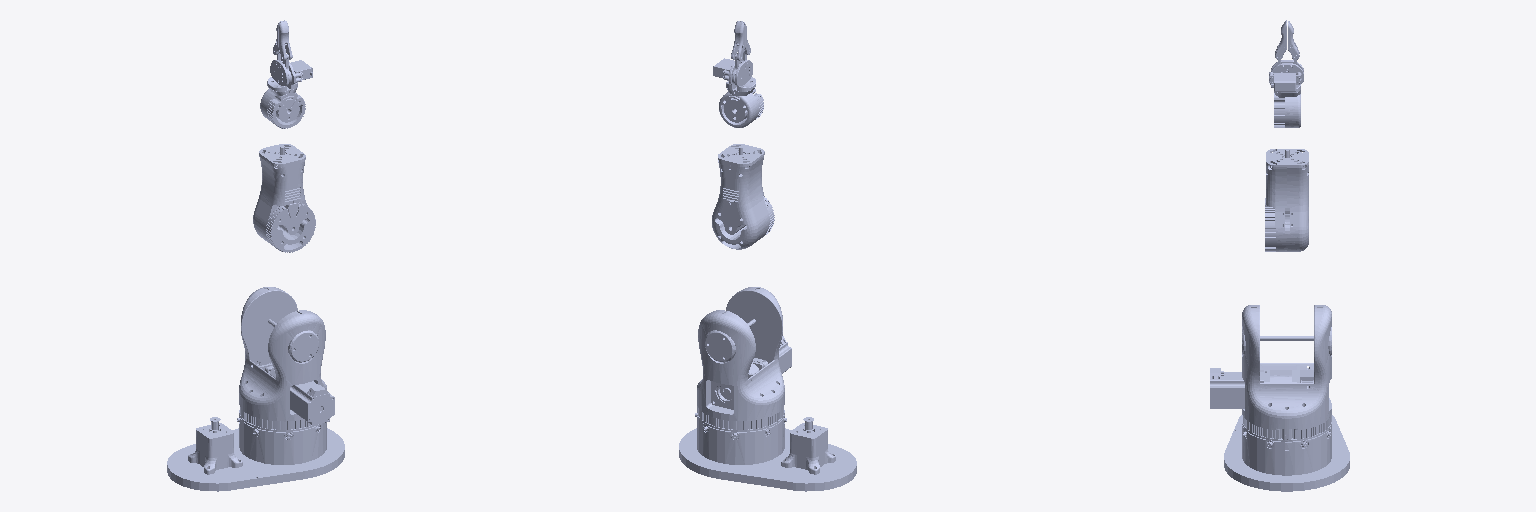
The robot description file, URDF, robot "urdf_v16":
<?xml version="1.0" encoding="utf-8"?>
<!-- This URDF was automatically created by SolidWorks to URDF Exporter! Originally created by [author] ([email redacted]) 
     Commit Version: 1.6.0-4-g7f85cfe  Build Version: 1.6.7995.38578
     For more information, please see http://wiki.ros.org/sw_urdf_exporter -->
<robot
  name="urdf_v16">
  <link
    name="base">
    <inertial>
      <origin
        xyz="-0.0389201994223138 0.0606404283501684 0.0288009133507181"
        rpy="0 0 0" />
      <mass
        value="1.80445503906733" />
      <inertia
        ixx="0.00557261131259849"
        ixy="1.30566151455957E-06"
        ixz="-0.000539475235711391"
        iyy="0.0133501948716485"
        iyz="4.50573070557487E-07"
        izz="0.0165394809218581" />
    </inertial>
    <visual>
      <origin
        xyz="0 0 0"
        rpy="0 0 0" />
      <geometry>
        <mesh
          filename="package://urdf_v16/meshes/base.STL" />
      </geometry>
      <material
        name="">
        <color
          rgba="0.792156862745098 0.819607843137255 0.933333333333333 1" />
      </material>
    </visual>
    <collision>
      <origin
        xyz="0 0 0"
        rpy="0 0 0" />
      <geometry>
        <mesh
          filename="package://urdf_v16/meshes/base.STL" />
      </geometry>
    </collision>
  </link>
  <link
    name="base_link ">
    <inertial>
      <origin
        xyz="-3.64068112765903E-05 -0.0118678758824738 0.0827015339279813"
        rpy="0 0 0" />
      <mass
        value="2.09089508032486" />
      <inertia
        ixx="0.013613386163526"
        ixy="4.81772898626971E-06"
        ixz="-8.58975907907224E-06"
        iyy="0.00966545436281291"
        iyz="-0.000408881288625665"
        izz="0.00889732682523512" />
    </inertial>
    <visual>
      <origin
        xyz="0 0 0"
        rpy="0 0 0" />
      <geometry>
        <mesh
          filename="package://urdf_v16/meshes/base_link .STL" />
      </geometry>
      <material
        name="">
        <color
          rgba="0.792156862745098 0.819607843137255 0.933333333333333 1" />
      </material>
    </visual>
    <collision>
      <origin
        xyz="0 0 0"
        rpy="0 0 0" />
      <geometry>
        <mesh
          filename="package://urdf_v16/meshes/base_link .STL" />
      </geometry>
    </collision>
    <ignore_collision link="base"/>
  </link>
  <joint
    name="joint_1"
    type="continuous">
    <origin
      xyz="0.0046192 0.060628 0.080563"
      rpy="0 0 0" />
    <parent
      link="base" />
    <child
      link="base_link " />
    <axis
      xyz="0 0 1" />
  </joint>
  <link
    name="shoulder">
    <inertial>
      <origin
        xyz="0.000114735555256318 0.0016461882487272 0.0799416450271098"
        rpy="0 0 0" />
      <mass
        value="1.93113222457088" />
      <inertia
        ixx="0.01708627154071"
        ixy="3.41459798496628E-06"
        ixz="-5.32606176023139E-07"
        iyy="0.0162697586704728"
        iyz="-0.000123095839040227"
        izz="0.0035998842492619" />
    </inertial>
    <visual>
      <origin
        xyz="0 0 0"
        rpy="0 0 0" />
      <geometry>
        <mesh
          filename="package://urdf_v16/meshes/shoulder.STL" />
      </geometry>
      <material
        name="">
        <color
          rgba="0.792156862745098 0.819607843137255 0.933333333333333 1" />
      </material>
    </visual>
    <collision>
      <origin
        xyz="0 0 0"
        rpy="0 0 0" />
      <geometry>
        <mesh
          filename="package://urdf_v16/meshes/shoulder.STL" />
      </geometry>
    </collision>
  </link>
  <joint
    name="joint_2"
    type="continuous">
    <origin
      xyz="0 0 0.16694"
      rpy="0 -0.0044397 0" />
    <parent
      link="base_link " />
    <child
      link="shoulder" />
    <axis
      xyz="0 1 0" />
  </joint>
  <link
    name="elbow">
    <inertial>
      <origin
        xyz="-7.45904489801719E-05 -0.000200828334464331 0.0430510825590724"
        rpy="0 0 0" />
      <mass
        value="0.777952609021586" />
      <inertia
        ixx="0.00228138056803775"
        ixy="6.75259481605935E-08"
        ixz="-6.02427649398722E-07"
        iyy="0.00230093031518272"
        iyz="-3.06257703779093E-05"
        izz="0.000730694022246996" />
    </inertial>
    <visual>
      <origin
        xyz="0 0 0"
        rpy="0 0 0" />
      <geometry>
        <mesh
          filename="package://urdf_v16/meshes/elbow.STL" />
      </geometry>
      <material
        name="">
        <color
          rgba="0.792156862745098 0.819607843137255 0.933333333333333 1" />
      </material>
    </visual>
    <collision>
      <origin
        xyz="0 0 0"
        rpy="0 0 0" />
      <geometry>
        <mesh
          filename="package://urdf_v16/meshes/elbow.STL" />
      </geometry>
    </collision>
  </link>
  <joint
    name="joint_3"
    type="continuous">
    <origin
      xyz="0 0 0.22112"
      rpy="0 0.0044397 0" />
    <parent
      link="shoulder" />
    <child
      link="elbow" />
    <axis
      xyz="0 1 0" />
  </joint>
  <link
    name="wrist_1">
    <inertial>
      <origin
        xyz="0.000153341839407795 0.00254377249979626 0.0552077416540102"
        rpy="0 0 0" />
      <mass
        value="0.336033452724269" />
      <inertia
        ixx="0.000698588486758794"
        ixy="-1.06886801069468E-06"
        ixz="4.79927277974197E-06"
        iyy="0.000573509249244311"
        iyz="1.12103478727962E-05"
        izz="0.000348806449824706" />
    </inertial>
    <visual>
      <origin
        xyz="0 0 0"
        rpy="0 0 0" />
      <geometry>
        <mesh
          filename="package://urdf_v16/meshes/wrist_1.STL" />
      </geometry>
      <material
        name="">
        <color
          rgba="0.792156862745098 0.819607843137255 0.933333333333333 1" />
      </material>
    </visual>
    <collision>
      <origin
        xyz="0 0 0"
        rpy="0 0 0" />
      <geometry>
        <mesh
          filename="package://urdf_v16/meshes/wrist_1.STL" />
      </geometry>
    </collision>
  </link>
  <joint
    name="joint_4"
    type="continuous">
    <origin
      xyz="0 0.000501 0.12994"
      rpy="0 0 0" />
    <parent
      link="elbow" />
    <child
      link="wrist_1" />
    <axis
      xyz="0 0 1" />
  </joint>
  <link
    name="wrist_2">
    <inertial>
      <origin
        xyz="1.77926530077199E-05 0.000385812865379087 0.00382819991882888"
        rpy="0 0 0" />
      <mass
        value="0.158624033379915" />
      <inertia
        ixx="8.93595815588662E-05"
        ixy="-2.61047265879977E-09"
        ixz="-6.69970075351791E-08"
        iyy="0.000106318553763207"
        iyz="-6.19881915619726E-07"
        izz="7.5097766833281E-05" />
    </inertial>
    <visual>
      <origin
        xyz="0 0 0"
        rpy="0 0 0" />
      <geometry>
        <mesh
          filename="package://urdf_v16/meshes/wrist_2.STL" />
      </geometry>
      <material
        name="">
        <color
          rgba="0.792156862745098 0.819607843137255 0.933333333333333 1" />
      </material>
    </visual>
    <collision>
      <origin
        xyz="0 0 0"
        rpy="0 0 0" />
      <geometry>
        <mesh
          filename="package://urdf_v16/meshes/wrist_2.STL" />
      </geometry>
    </collision>
  </link>
  <joint
    name="joint_5"
    type="continuous">
    <origin
      xyz="0 0 0.098961"
      rpy="0 0 0" />
    <parent
      link="wrist_1" />
    <child
      link="wrist_2" />
    <axis
      xyz="0 1 0" />
  </joint>
  <link
    name="gripper_base">
    <inertial>
      <origin
        xyz="0.0144248332652381 -0.00140943468206361 0.729409570686998"
        rpy="0 0 0" />
      <mass
        value="0.0669550622960312" />
      <inertia
        ixx="2.24885107005276E-05"
        ixy="2.35779600509359E-06"
        ixz="-2.87441674029786E-06"
        iyy="3.18452559004708E-05"
        iyz="3.57683917662539E-07"
        izz="3.67649419263123E-05" />
    </inertial>
    <visual>
      <origin
        xyz="0 0 0"
        rpy="0 0 0" />
      <geometry>
        <mesh
          filename="package://urdf_v16/meshes/gripper_base.STL" />
      </geometry>
      <material
        name="">
        <color
          rgba="0.792156862745098 0.819607843137255 0.933333333333333 1" />
      </material>
    </visual>
    <collision>
      <origin
        xyz="0 0 0"
        rpy="0 0 0" />
      <geometry>
        <mesh
          filename="package://urdf_v16/meshes/gripper_base.STL" />
      </geometry>
    </collision>
  </link>
  <joint
    name="joint_6"
    type="fixed">
    <origin
      xyz="0.00098171 -0.000501 -0.66696"
      rpy="0 0 0" />
    <parent
      link="wrist_2" />
    <child
      link="gripper_base" />
    <axis
      xyz="0 0 0" />
  </joint>
  <link
    name="servo_gear1">
    <inertial>
      <origin
        xyz="-0.0100576763756515 -0.00793429336823925 -0.000922276940248268"
        rpy="0 0 0" />
      <mass
        value="0.00438273139903777" />
      <inertia
        ixx="9.89317510651496E-07"
        ixy="1.98722680590235E-10"
        ixz="-7.64270919579872E-10"
        iyy="1.8900131850761E-07"
        iyz="4.23805101340853E-08"
        izz="8.26162926123892E-07" />
    </inertial>
    <visual>
      <origin
        xyz="0 0 0"
        rpy="0 0 0" />
      <geometry>
        <mesh
          filename="package://urdf_v16/meshes/servo_gear1.STL" />
      </geometry>
      <material
        name="">
        <color
          rgba="0.792156862745098 0.819607843137255 0.933333333333333 1" />
      </material>
    </visual>
    <collision>
      <origin
        xyz="0 0 0"
        rpy="0 0 0" />
      <geometry>
        <mesh
          filename="package://urdf_v16/meshes/servo_gear1.STL" />
      </geometry>
    </collision>
  </link>
  <joint
    name="joint_7"
    type="continuous">
    <origin
      xyz="0.0093777 -0.013452 0.73231"
      rpy="-1.5563 0.0046149 0.0046825" />
    <parent
      link="gripper_base" />
    <child
      link="servo_gear1" />
    <axis
      xyz="0.99999 0 -0.0046829" />
  </joint>
  <link
    name="leg1">
    <inertial>
      <origin
        xyz="0.00929593624657088 -0.00070323766853897 0.04759195429348"
        rpy="0 0 0" />
      <mass
        value="0.0106754375169454" />
      <inertia
        ixx="4.10221567193055E-06"
        ixy="-1.70840076438384E-09"
        ixz="-9.73747882338398E-09"
        iyy="4.17675163334443E-06"
        iyz="-6.39775284497913E-07"
        izz="5.77185004785099E-07" />
    </inertial>
    <visual>
      <origin
        xyz="0 0 0"
        rpy="0 0 0" />
      <geometry>
        <mesh
          filename="package://urdf_v16/meshes/leg1.STL" />
      </geometry>
      <material
        name="">
        <color
          rgba="0.792156862745098 0.819607843137255 0.933333333333333 1" />
      </material>
    </visual>
    <collision>
      <origin
        xyz="0 0 0"
        rpy="0 0 0" />
      <geometry>
        <mesh
          filename="package://urdf_v16/meshes/leg1.STL" />
      </geometry>
    </collision>
  </link>
  <joint
    name="jleg1"
    type="fixed">
    <origin
      xyz="-0.019057 -0.019896 0.0073322"
      rpy="1.5563 0.0046149 -0.0046825" />
    <parent
      link="servo_gear1" />
    <child
      link="leg1" />
    <axis
      xyz="0.99999 0 -0.0046829" />
  </joint>
  <link
    name="servo_gear2">
    <inertial>
      <origin
        xyz="4.90327258335643E-05 -0.0079342933183536 -0.000922776653681345"
        rpy="0 0 0" />
      <mass
        value="0.00438273139817732" />
      <inertia
        ixx="9.89317507891527E-07"
        ixy="1.98725319420247E-10"
        ixz="-7.64271453185175E-10"
        iyy="1.8900131821962E-07"
        iyz="4.23805083000154E-08"
        izz="8.26162923689625E-07" />
    </inertial>
    <visual>
      <origin
        xyz="0 0 0"
        rpy="0 0 0" />
      <geometry>
        <mesh
          filename="package://urdf_v16/meshes/servo_gear2.STL" />
      </geometry>
      <material
        name="">
        <color
          rgba="0.792156862745098 0.819607843137255 0.933333333333333 1" />
      </material>
    </visual>
    <collision>
      <origin
        xyz="0 0 0"
        rpy="0 0 0" />
      <geometry>
        <mesh
          filename="package://urdf_v16/meshes/servo_gear2.STL" />
      </geometry>
    </collision>
    <ignore_collision link="servo_gear1"/>
  </link>
  <joint
    name="joint_8"
    type="continuous">
    <origin
      xyz="-0.00062209 0.014501 0.73236"
      rpy="-1.5563 -0.0047509 -3.1369" />
    <parent
      link="gripper_base" />
    <child
      link="servo_gear2" />
    <axis
      xyz="0.99999 0 -0.0046829" />
    <mimic
      joint="joint_7"
      multiplier="1"
      offset="0" />
  </joint>
  <link
    name="leg2">
    <inertial>
      <origin
        xyz="-0.00877865438593095 -0.0147032394404991 0.0476765976677737"
        rpy="0 0 0" />
      <mass
        value="0.0106754461770056" />
      <inertia
        ixx="4.10221667015715E-06"
        ixy="-1.70826774106503E-09"
        ixz="-9.73784470972599E-09"
        iyy="4.17675215863974E-06"
        iyz="-6.39775026488929E-07"
        izz="5.77185107952736E-07" />
    </inertial>
    <visual>
      <origin
        xyz="0 0 0"
        rpy="0 0 0" />
      <geometry>
        <mesh
          filename="package://urdf_v16/meshes/leg2.STL" />
      </geometry>
      <material
        name="">
        <color
          rgba="0.792156862745098 0.819607843137255 0.933333333333333 1" />
      </material>
    </visual>
    <collision>
      <origin
        xyz="0 0 0"
        rpy="0 0 0" />
      <geometry>
        <mesh
          filename="package://urdf_v16/meshes/leg2.STL" />
      </geometry>
    </collision>
  </link>
  <joint
    name="jleg2"
    type="fixed">
    <origin
      xyz="0.0091903 -0.019693 0.021245"
      rpy="1.5563 0.0046149 -0.0046825" />
    <parent
      link="servo_gear2" />
    <child
      link="leg2" />
    <axis
      xyz="0 0 0" />
  </joint>
</robot>

--- Render facts (derived) ---
3 views of the same robot in one strip: view 1: azimuth 30°, elevation 25°; view 2: azimuth 150°, elevation 25°; view 3: azimuth 270°, elevation 25° (orthographic).
Model urdf_v16 with 11 links and 10 joints (7 continuous, 3 fixed), rooted at base, posed all joints at 0.
Visible links, largest first — view 1: base_link, base, elbow, wrist_2, gripper_base; view 2: base_link, base, elbow, wrist_2, gripper_base; view 3: base_link, base, elbow, gripper_base, wrist_2.
Boxes of the visible links, x1,y1,x2,y2 form: base_link: (239, 287, 334, 431); base: (167, 415, 344, 491); elbow: (253, 144, 315, 252); wrist_2: (260, 87, 305, 128); gripper_base: (267, 59, 312, 91); base_link: (697, 287, 791, 431); base: (679, 413, 856, 491); elbow: (712, 144, 774, 249); wrist_2: (719, 87, 763, 127); gripper_base: (713, 58, 755, 91); base_link: (1210, 305, 1331, 441); base: (1224, 415, 1349, 491); elbow: (1265, 149, 1308, 251); gripper_base: (1269, 60, 1303, 92); wrist_2: (1274, 90, 1300, 127).
Bounding box of the posed robot: 0.3415 × 0.2501 × 0.8675 m (x, y, z).
Meshes: 11 distinct files referenced, 9 mesh visuals loaded (9 binary STL); not drawn: 2 (reference not matched to a file when rendering).